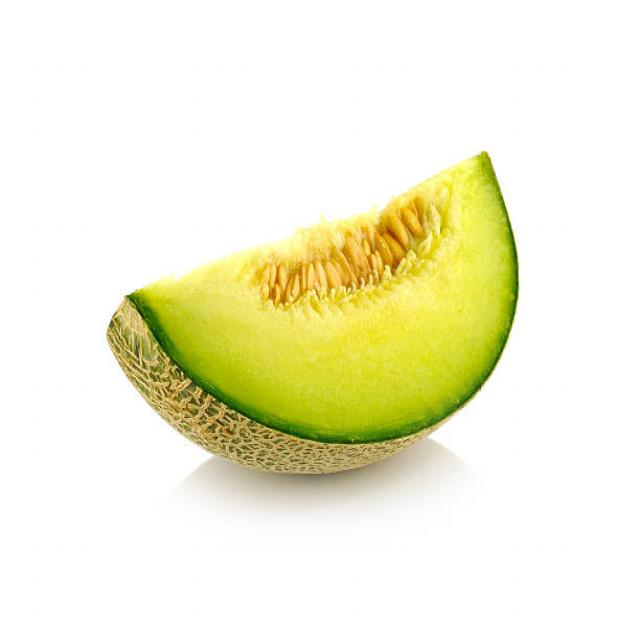melon: (104, 146, 523, 484)
